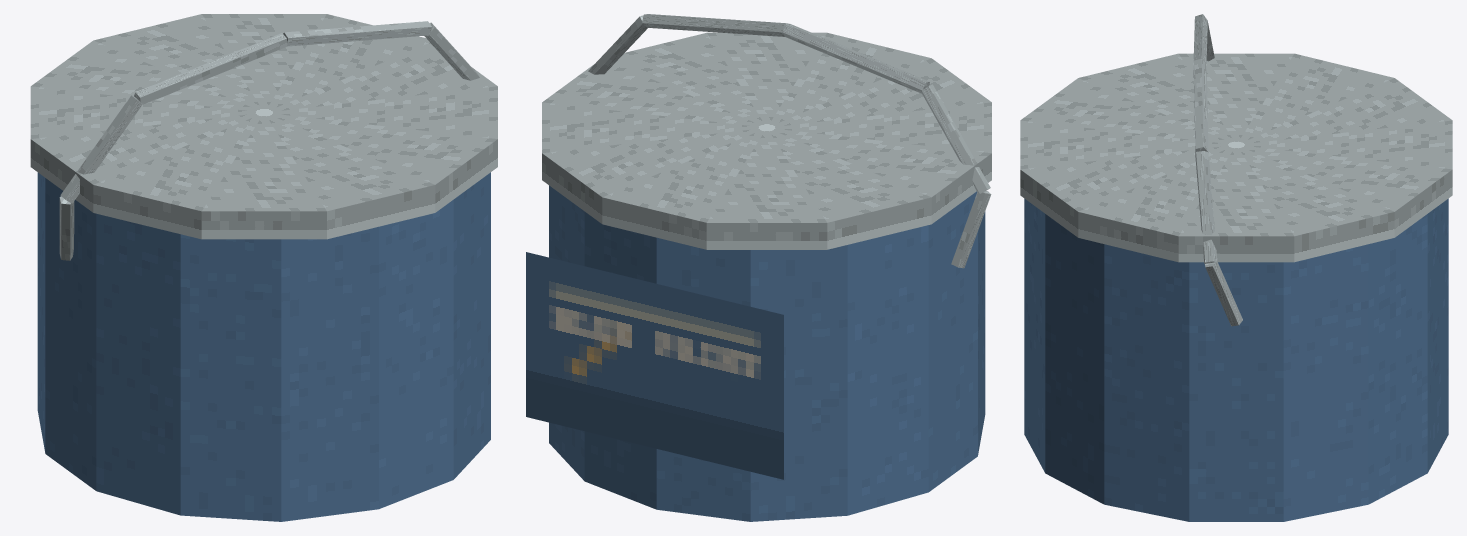
File: paint_blue.glb
3 views of the same model, side by side, from view 1: azimuth 30°, elevation 25°; view 2: azimuth 150°, elevation 25°; view 3: azimuth 270°, elevation 25° (orthographic). The views are drawn at different scales.
Parts seen in each view (by area): view 1: block_body, block_paint bucket lid, block_wire carry bail 2, block_wire carry bail 3, block_wire carry bail 1, block_wire carry bail 4, block_wire carry bail 0; view 2: block_body, block_paint bucket lid, block_paint label, block_wire carry bail 2, block_wire carry bail 3, block_wire carry bail 1, block_wire carry bail 0, block_wire carry bail 4; view 3: block_body, block_paint bucket lid, block_wire carry bail 4, block_wire carry bail 3, block_wire carry bail 5, block_wire carry bail 2.
Part boxes in pixels (box(x1,y1,x2,y2)): block_body: box(37, 172, 490, 521); block_paint bucket lid: box(30, 14, 497, 239); block_wire carry bail 2: box(134, 33, 287, 104); block_wire carry bail 3: box(283, 21, 431, 46); block_wire carry bail 1: box(60, 95, 142, 203); block_wire carry bail 4: box(424, 22, 479, 80); block_wire carry bail 0: box(59, 196, 74, 260); block_body: box(549, 185, 985, 521); block_paint bucket lid: box(542, 32, 991, 249); block_paint label: box(526, 252, 783, 479); block_wire carry bail 2: box(782, 23, 929, 93); block_wire carry bail 3: box(642, 14, 788, 36); block_wire carry bail 1: box(921, 84, 990, 193); block_wire carry bail 0: box(951, 191, 991, 268); block_wire carry bail 4: box(588, 15, 647, 74); block_body: box(1024, 198, 1448, 521); block_paint bucket lid: box(1020, 53, 1452, 262); block_wire carry bail 4: box(1195, 151, 1217, 264); block_wire carry bail 3: box(1193, 58, 1208, 152); block_wire carry bail 5: box(1205, 260, 1242, 326); block_wire carry bail 2: box(1193, 14, 1207, 63).
Bounding box in the file's own units: 0.2967 × 0.2663 × 0.276.
2 materials, 2 textured.
